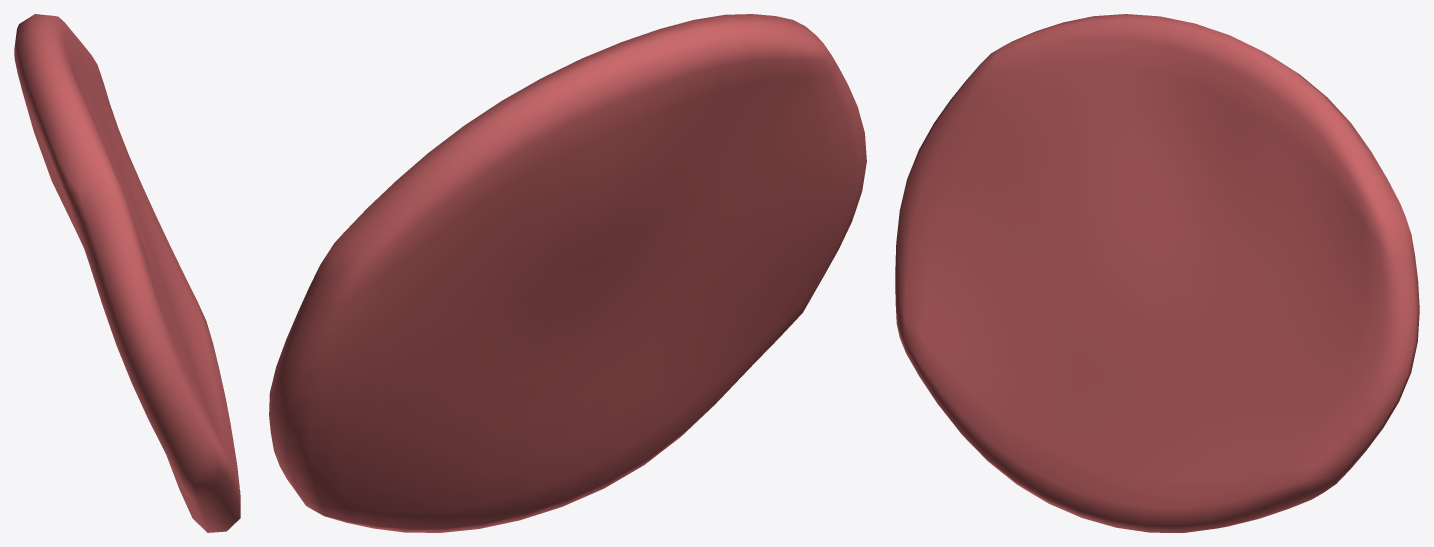
3 views of the same model, side by side, from view 1: azimuth 30°, elevation 25°; view 2: azimuth 150°, elevation 25°; view 3: azimuth 270°, elevation 25° (orthographic). The views are drawn at different scales.
Parts seen in each view (by area): view 1: 左侧半膜肌囊; view 2: 左侧半膜肌囊; view 3: 左侧半膜肌囊.
Boxes of the visible parts, x1,y1,x2,y2 form: 左侧半膜肌囊: (14, 14, 240, 532); 左侧半膜肌囊: (269, 14, 866, 532); 左侧半膜肌囊: (895, 14, 1419, 532).
Size of the model in its own units: 0.0184 by 0.0281 by 0.0304.
